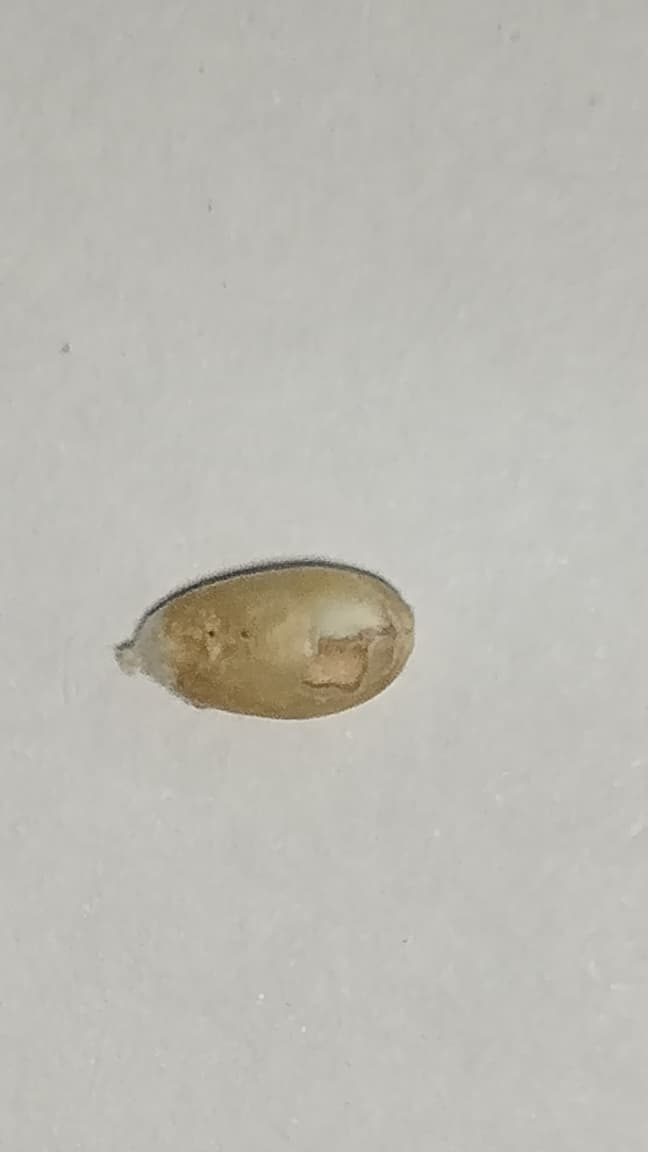damage: (115, 556, 415, 718)
insectdamage: (301, 579, 401, 715)
